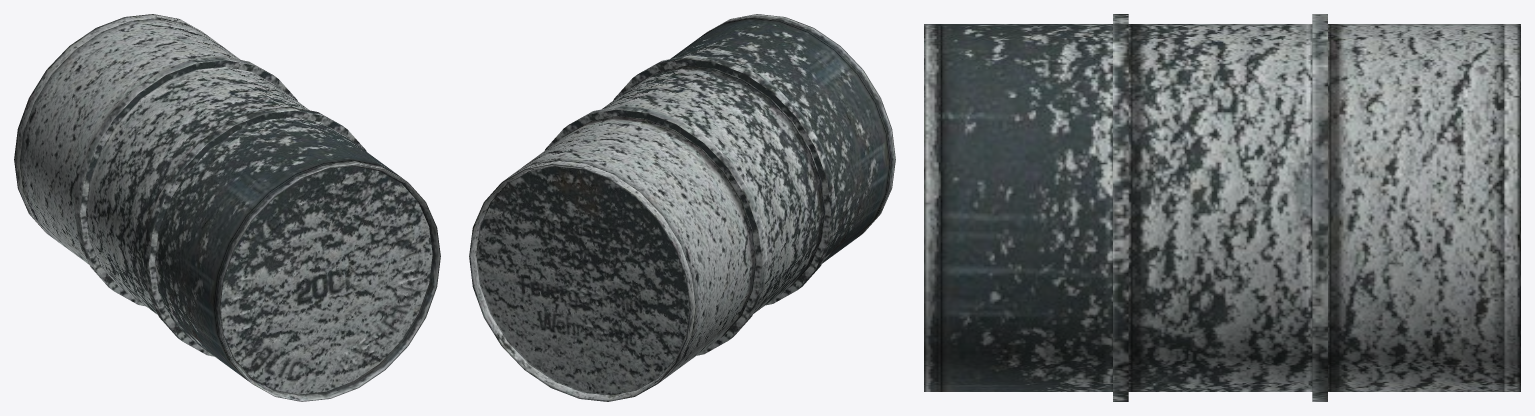
Rendered from prop_barrel_black_snow.glb.
3 renders of one model, left to right at view 1: azimuth 30°, elevation 25°; view 2: azimuth 150°, elevation 25°; view 3: azimuth 270°, elevation 25°, orthographic. The views are drawn at different scales.
Size of the model in its own units: 28.93 by 28.93 by 44.32.
1 material, 1 textured.
